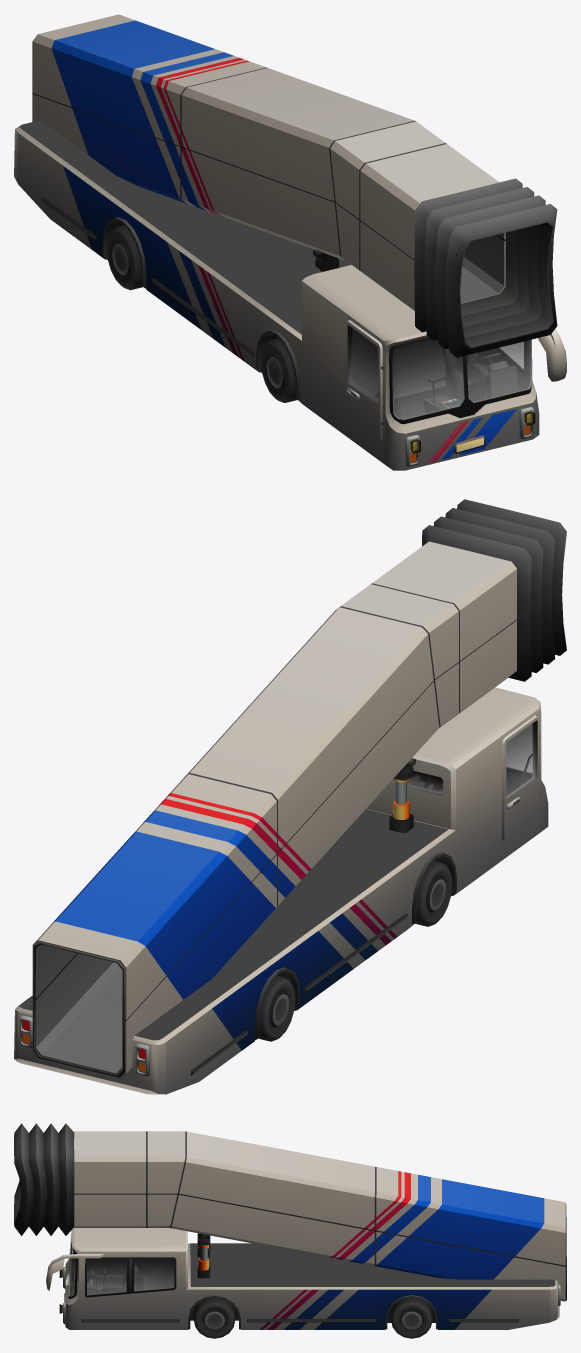
The model's file is tp_loading_truck_01a.glb.
3 views of the same model, one above another, from view 1: azimuth 30°, elevation 25°; view 2: azimuth 150°, elevation 25°; view 3: azimuth 270°, elevation 25° (orthographic). The views are drawn at different scales.
Parts seen in each view (by area): view 1: TP_Loading_Truck_01A_Body, TP_Loading_Truck_01A_Door, TP_Loading_Truck_01A_Wheel_F.R, TP_Loading_Truck_01A_Wheel_R.R; view 2: TP_Loading_Truck_01A_Body, TP_Loading_Truck_01A_Door, TP_Loading_Truck_01A_Wheel_R.R, TP_Loading_Truck_01A_Wheel_F.R; view 3: TP_Loading_Truck_01A_Body, TP_Loading_Truck_01A_Wheel_F.L, TP_Loading_Truck_01A_Wheel_R.L, TP_Loading_Truck_01A_Door.
Boxes of the visible parts, <box> form: TP_Loading_Truck_01A_Body: <box>14,14,566,470</box>; TP_Loading_Truck_01A_Door: <box>345,319,383,442</box>; TP_Loading_Truck_01A_Wheel_F.R: <box>260,338,297,402</box>; TP_Loading_Truck_01A_Wheel_R.R: <box>106,225,143,290</box>; TP_Loading_Truck_01A_Body: <box>14,499,566,1094</box>; TP_Loading_Truck_01A_Door: <box>502,715,539,839</box>; TP_Loading_Truck_01A_Wheel_R.R: <box>258,975,295,1041</box>; TP_Loading_Truck_01A_Wheel_F.R: <box>415,860,452,926</box>; TP_Loading_Truck_01A_Body: <box>14,1123,566,1329</box>; TP_Loading_Truck_01A_Wheel_F.L: <box>193,1298,235,1338</box>; TP_Loading_Truck_01A_Wheel_R.L: <box>391,1298,432,1338</box>; TP_Loading_Truck_01A_Door: <box>87,1259,126,1273</box>.
Size of the model in its own units: 3.06 by 4.98 by 14.04.
Materials: 3 (3 with a texture image).
